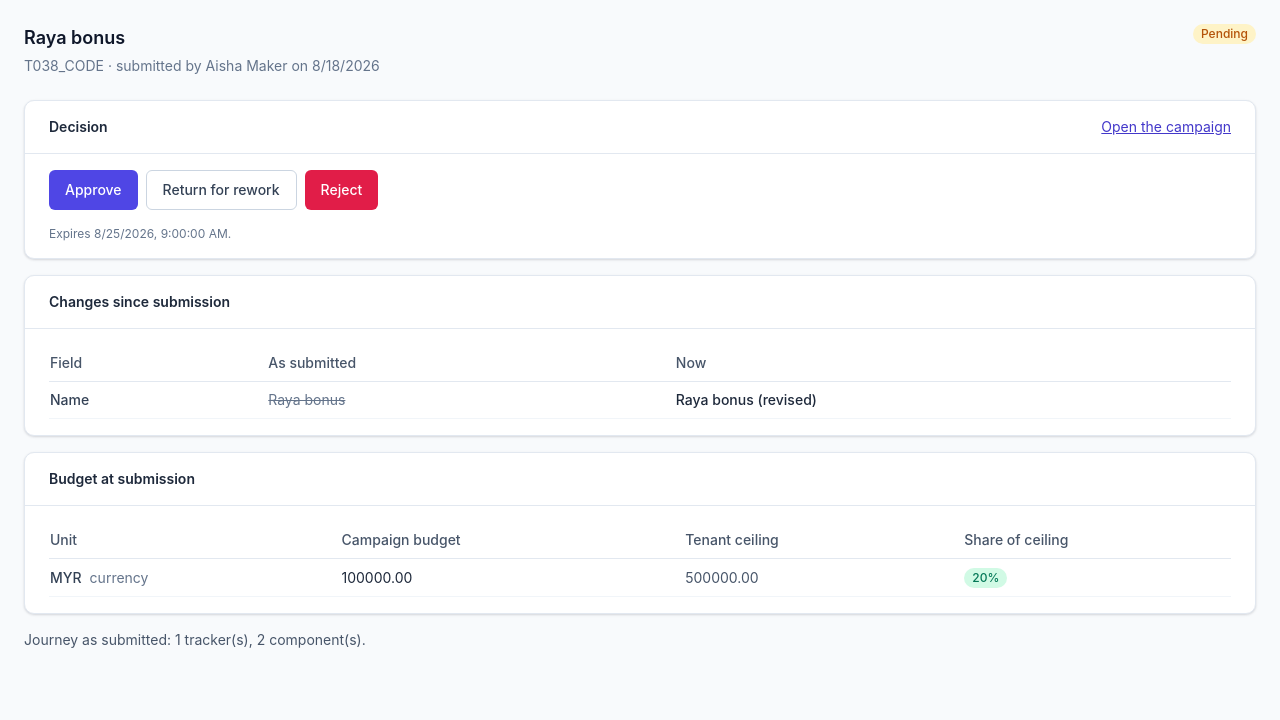
it: T-038 · ApprovalDetailPage — the states around the decision › closes the dialog once the decision succeeds
Click the button "Approve": (93, 190) [49,170,138,210]
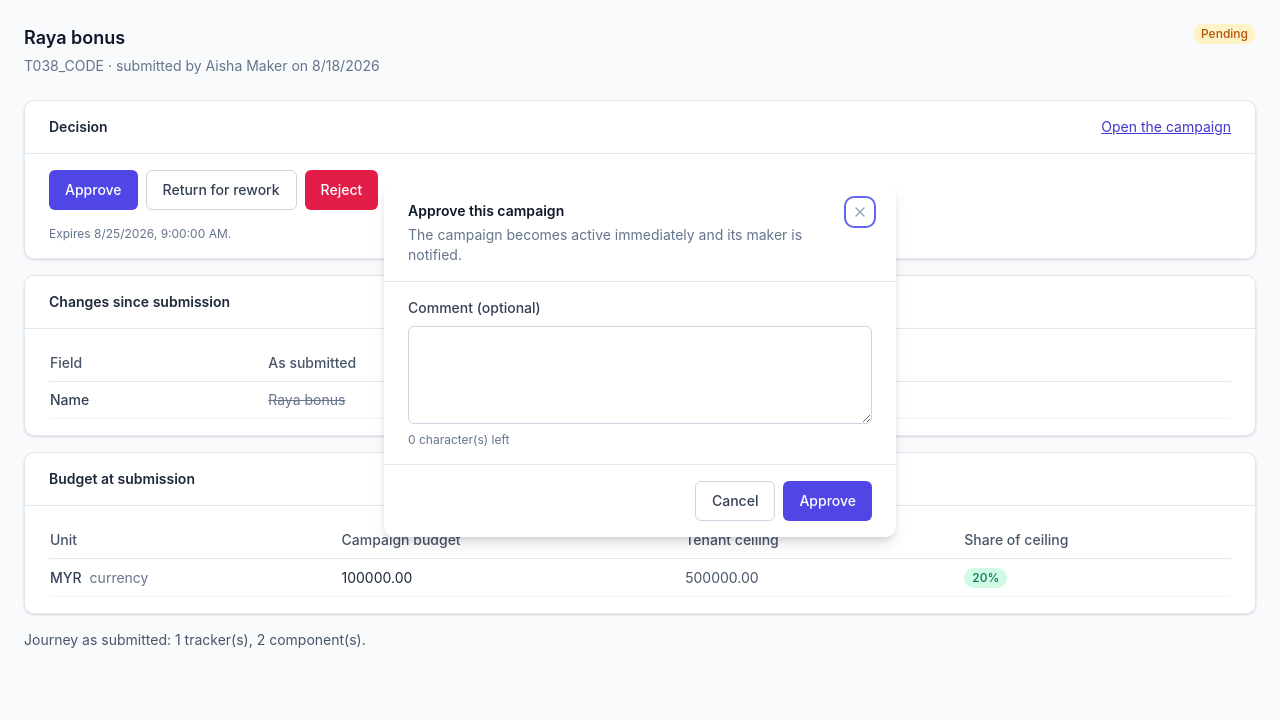
Click the button "Approve": (828, 500) [783,480,872,520]
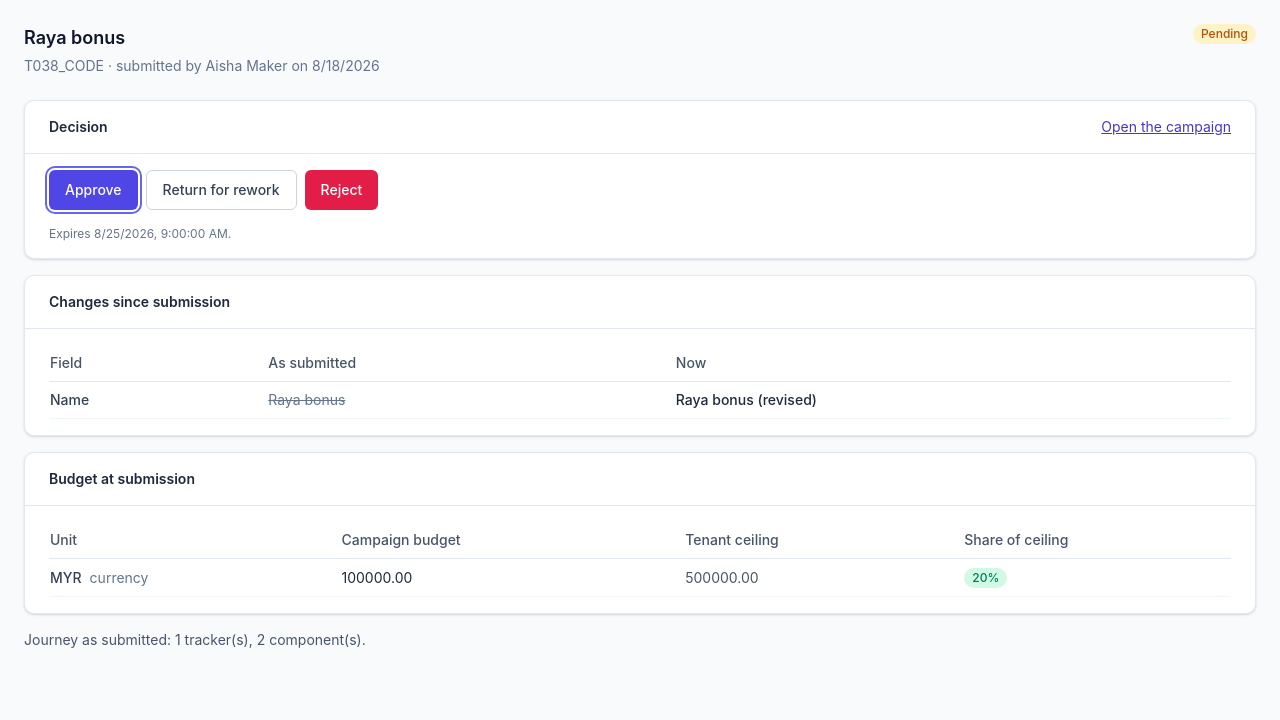
Check: the dialog is gone
